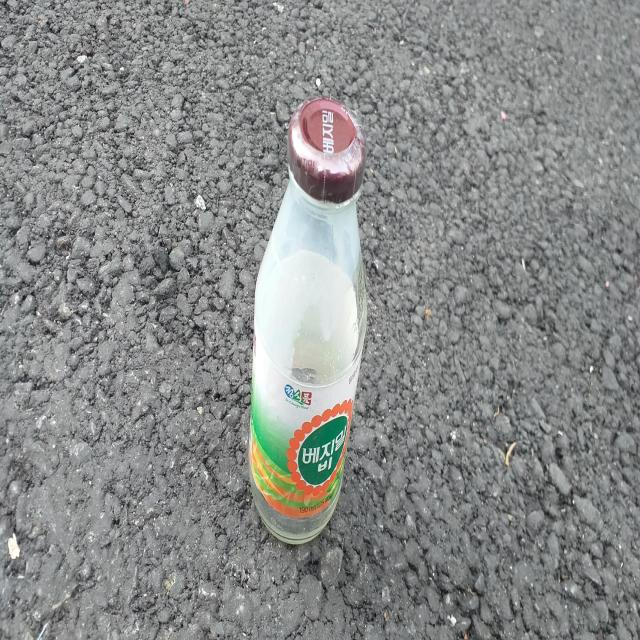glass: (249, 95, 367, 544)
